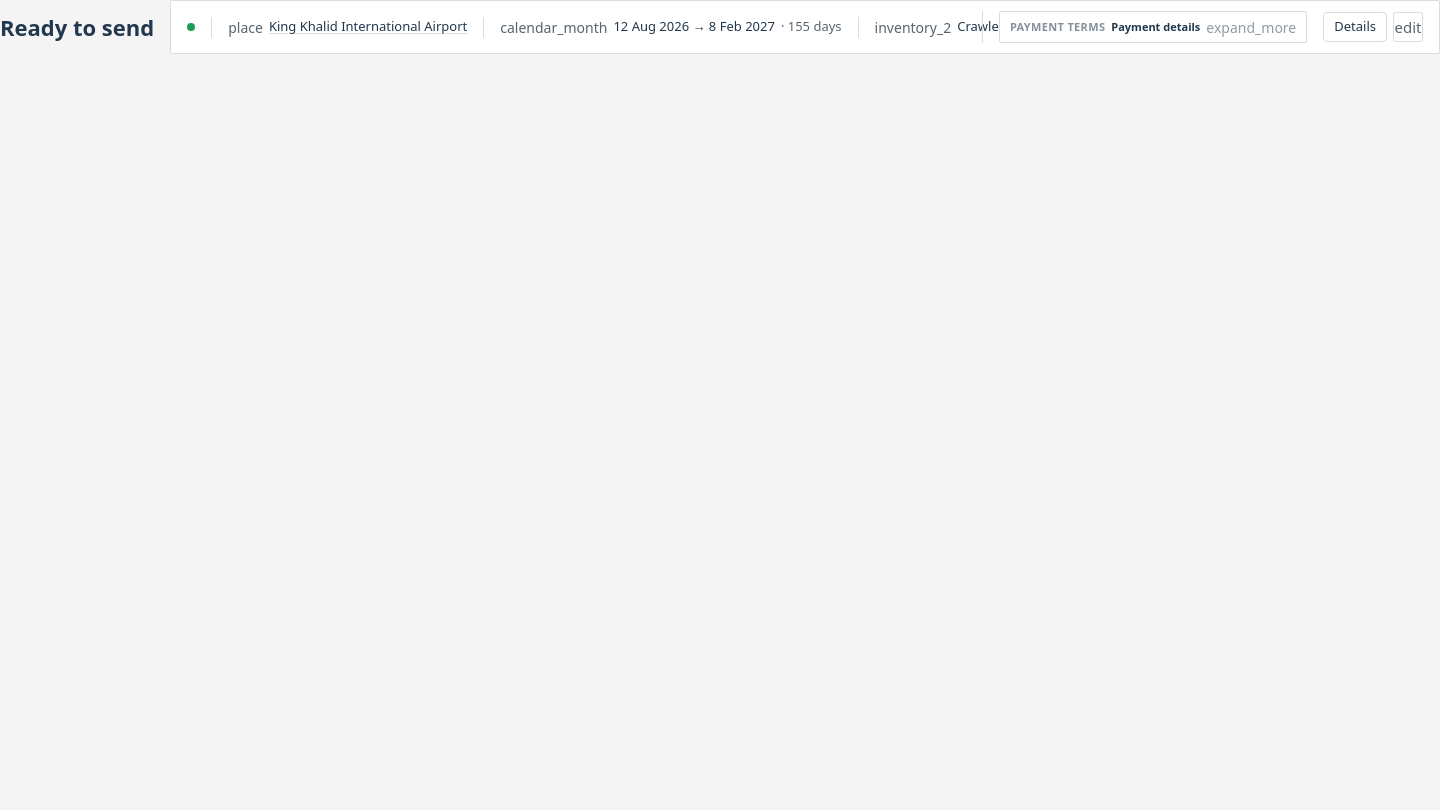
Scenario: Preferences are the only editable region (MREQ-AC-43) › keeps maintenance, which the prototype dropped
Click the button "Details" at (1355, 27), box [1323,12,1387,42]
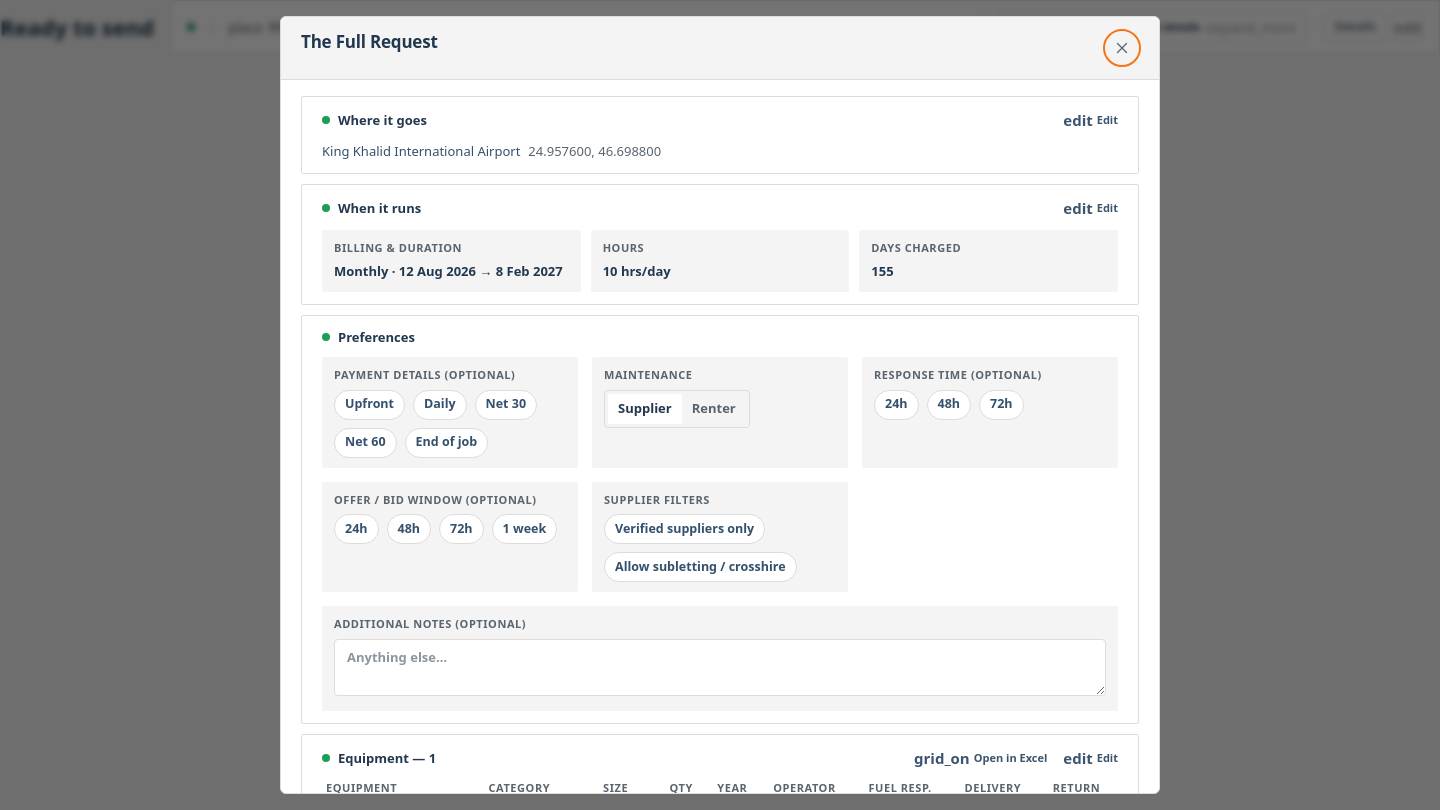
Expected: the text "RESPONSE TIME (optional)" is shown, [874,367,1042,382]
Click the button "Renter" at (714, 408), box [682,394,746,424]
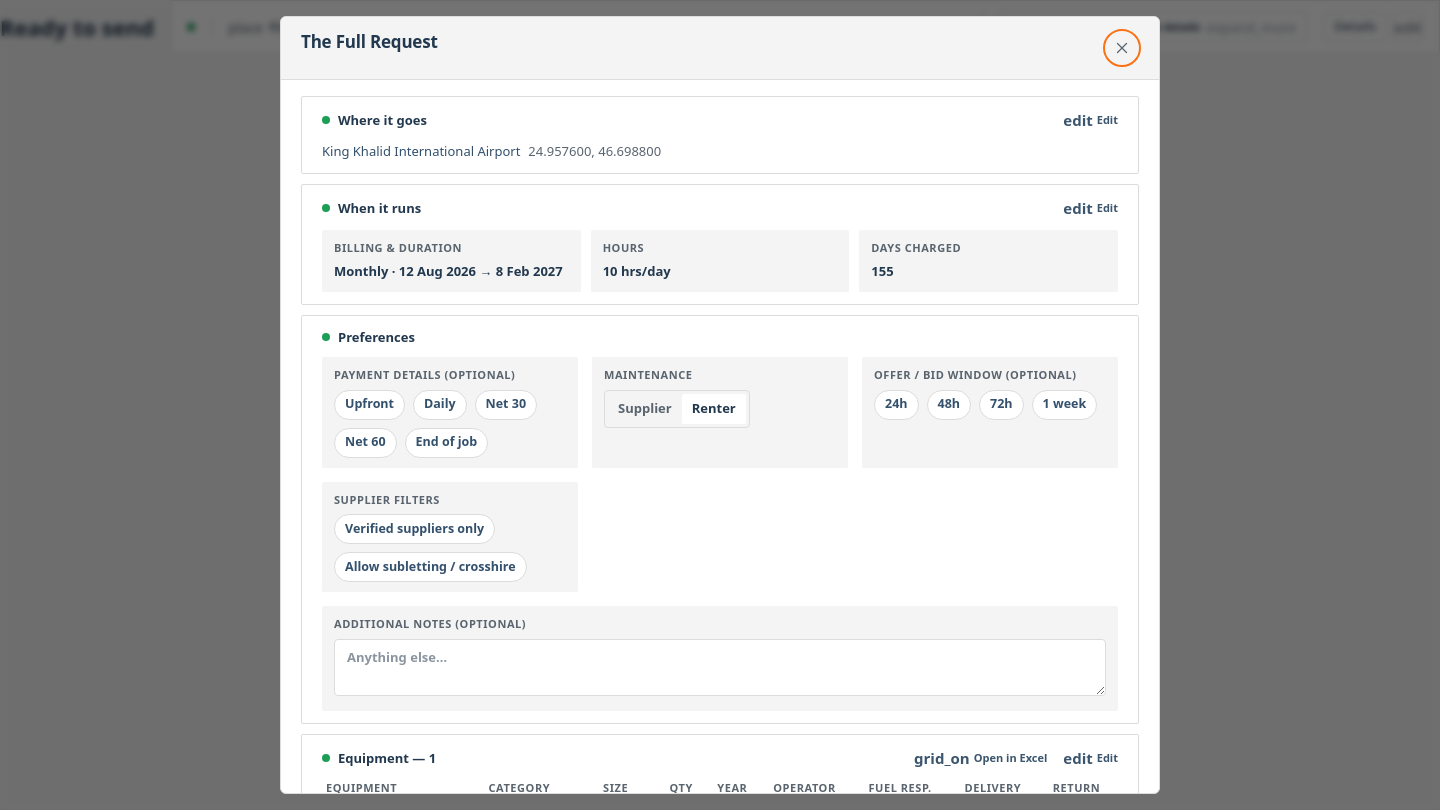
Expected: the text "RESPONSE TIME" is gone
